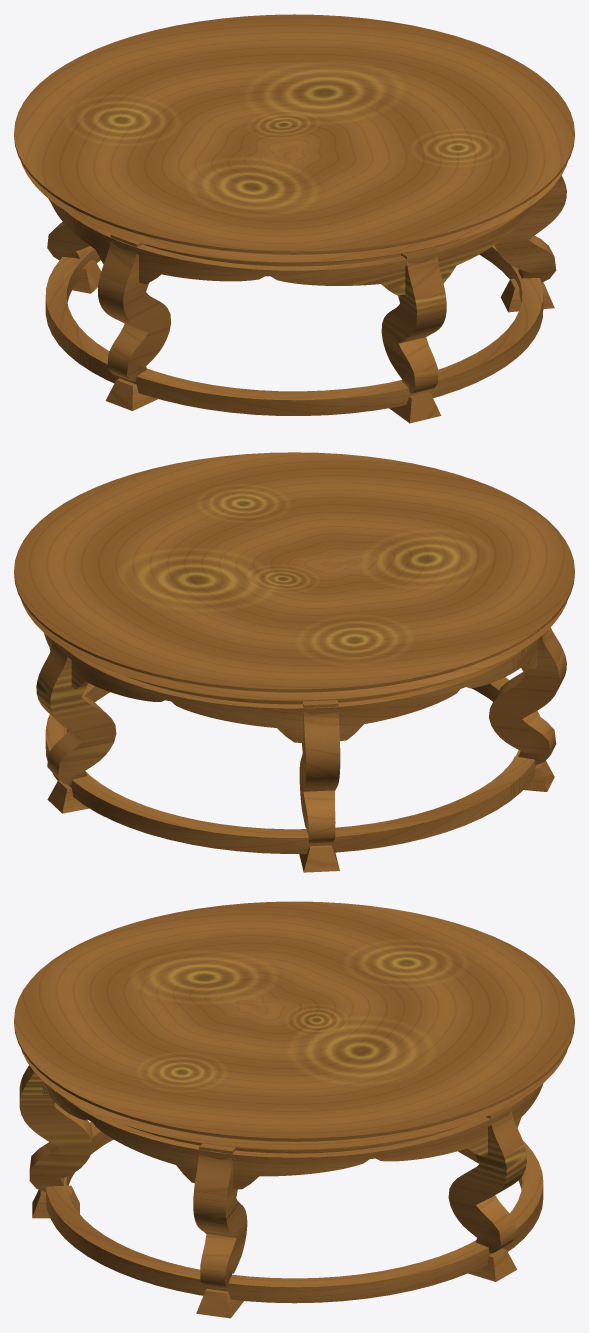
File: yuankangzhuo-v1.glb
3 views of the same model, one above another, from view 1: azimuth 30°, elevation 25°; view 2: azimuth 150°, elevation 25°; view 3: azimuth 270°, elevation 25° (orthographic).
Parts seen in each view (by area): view 1: zhuomian, tuoni, tui, shuyao, yatiao; view 2: zhuomian, tui, tuoni, shuyao, yatiao; view 3: zhuomian, tui, tuoni, shuyao, yatiao.
Part boxes in pixels (box(x1,y1,x2,y2)): zhuomian: box(14, 14, 574, 263); tuoni: box(45, 245, 554, 423); tui: box(47, 175, 566, 394); shuyao: box(48, 198, 540, 276); yatiao: box(51, 195, 544, 295); zhuomian: box(14, 452, 574, 701); tui: box(36, 627, 566, 843); tuoni: box(45, 677, 554, 872); shuyao: box(48, 636, 540, 714); yatiao: box(44, 633, 537, 742); zhuomian: box(14, 901, 574, 1150); tui: box(19, 1065, 526, 1289); tuoni: box(32, 1121, 543, 1318); shuyao: box(48, 1085, 540, 1163); yatiao: box(42, 1081, 542, 1189).
Size of the model in its own units: 0.8 by 0.3 by 0.8.
1 material, 1 textured.
